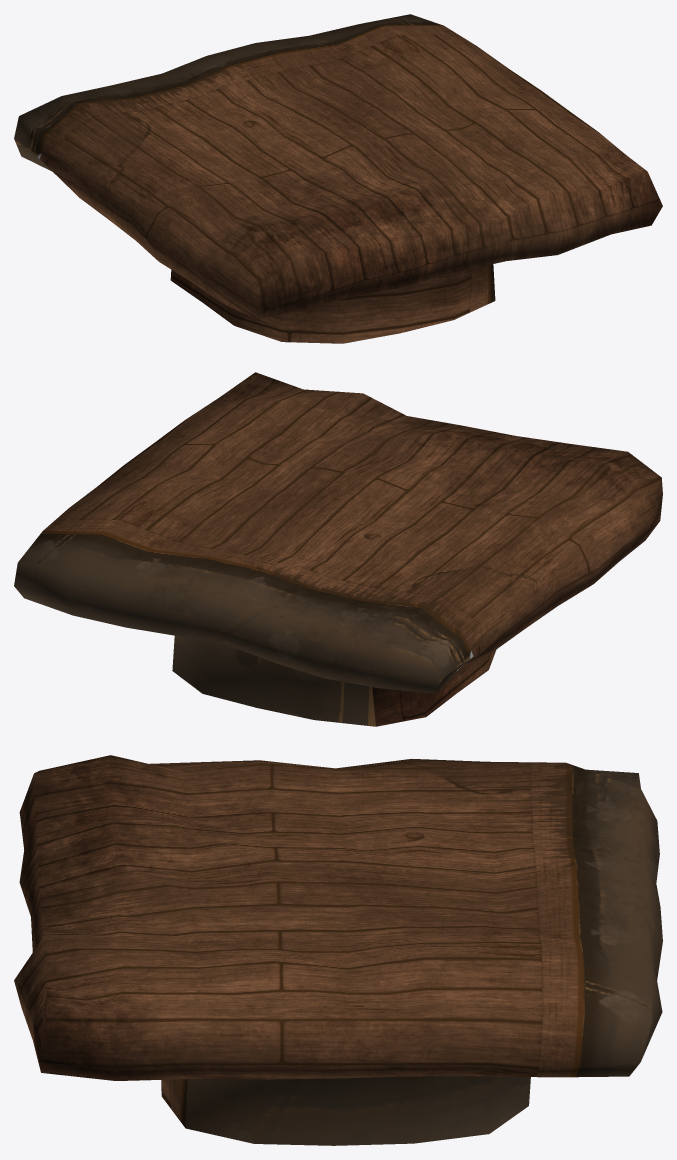
File: button.fbx
The picture shows the model from 3 angles, top to bottom: view 1: azimuth 30°, elevation 25°; view 2: azimuth 150°, elevation 25°; view 3: azimuth 270°, elevation 25°; orthographic projection. The views are drawn at different scales.
Parts seen in each view (by area): view 1: RetopoFlow; view 2: RetopoFlow; view 3: RetopoFlow.
Part boxes in pixels (x1,y1,x2,y2): RetopoFlow: (14,14,662,343); RetopoFlow: (14,372,662,726); RetopoFlow: (14,755,662,1145).
Bounding box in the file's own units: 207 × 72.93 × 208.
